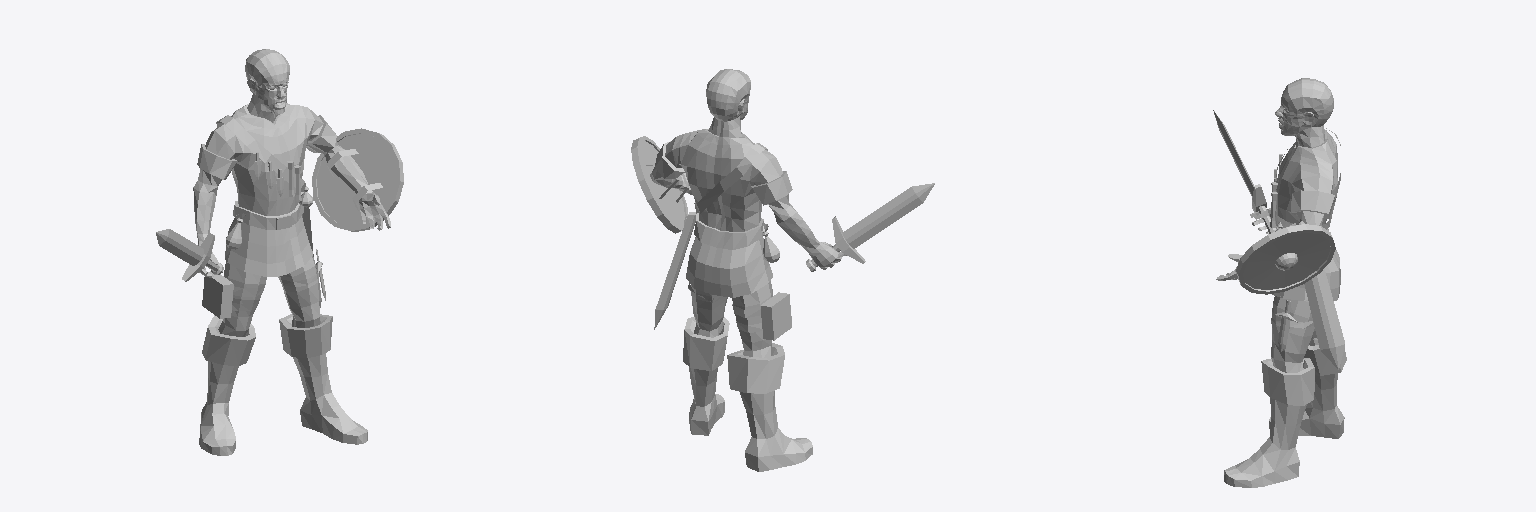
File: char_anim_000313.obj
3 renders of one model, left to right at view 1: azimuth 30°, elevation 25°; view 2: azimuth 150°, elevation 25°; view 3: azimuth 270°, elevation 25°, orthographic.
Visible parts, largest first — view 1: Body.001, Shield, Sword, Funda.001_LegBag, Bandolera; view 2: Body.001, Sword, Shield, Funda.001_LegBag, Sheat, Bandolera; view 3: Body.001, Shield, Sheat, Sword, LegKnife.
Part boxes in pixels (x1,y1,x2,y2): Body.001: (193, 49, 390, 455); Shield: (312, 128, 403, 231); Sword: (156, 229, 223, 281); Funda.001_LegBag: (202, 271, 265, 318); Bandolera: (216, 115, 305, 191); Body.001: (650, 69, 846, 471); Sword: (806, 183, 934, 271); Shield: (631, 136, 688, 233); Funda.001_LegBag: (732, 292, 791, 340); Sheat: (654, 212, 695, 329); Bandolera: (694, 143, 767, 213); Body.001: (1216, 78, 1346, 487); Shield: (1236, 223, 1335, 294); Sheat: (1304, 268, 1344, 369); Sword: (1213, 110, 1275, 233); LegKnife: (1272, 300, 1313, 351).
Size of the model in its own units: 1.71 by 2.29 by 0.7394.